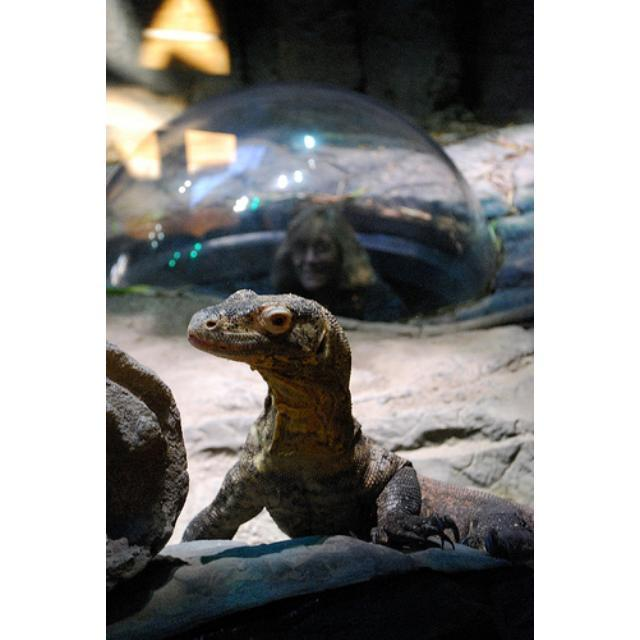KomodoDragon: (179, 284, 531, 564)
